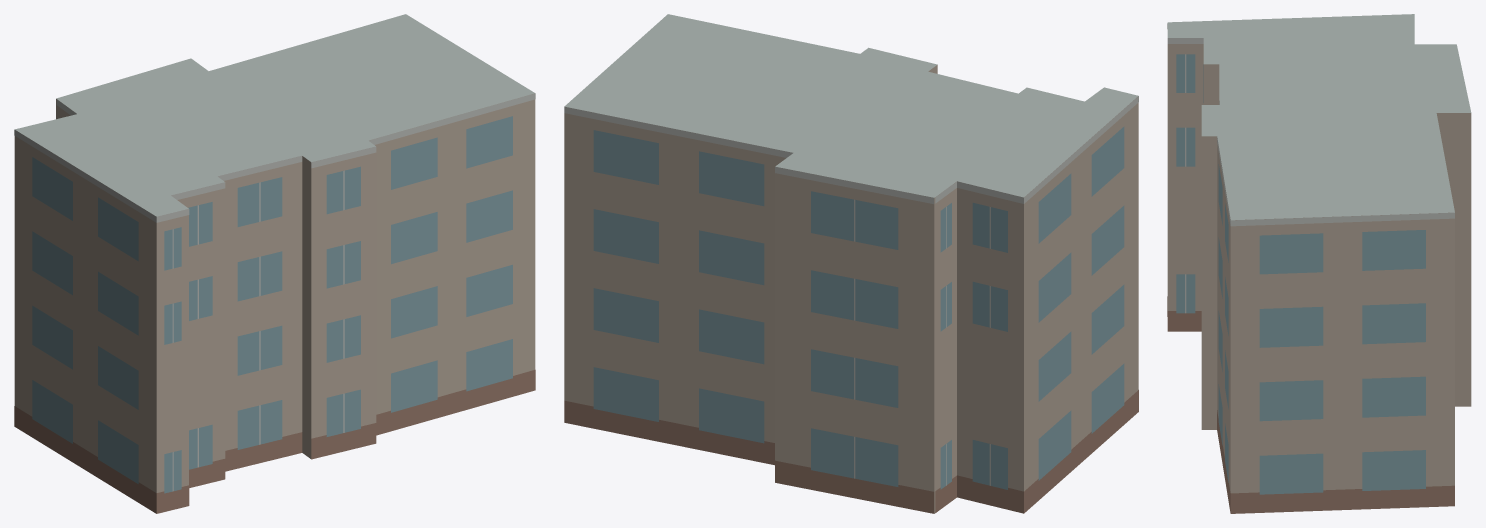
File: survey-upis-32756419.glb
3 renders of one model, left to right at view 1: azimuth 30°, elevation 25°; view 2: azimuth 150°, elevation 25°; view 3: azimuth 270°, elevation 25°, orthographic. The views are drawn at different scales.
Parts seen in each view (by area): view 1: survey-upis-32756419.tmp; view 2: survey-upis-32756419.tmp; view 3: survey-upis-32756419.tmp.
Part boxes in pixels (<box>): survey-upis-32756419.tmp: <box>14,14,535,513</box>; survey-upis-32756419.tmp: <box>564,14,1138,513</box>; survey-upis-32756419.tmp: <box>1167,14,1471,513</box>.
Size of the model in its own units: 17.79 by 11.8 by 11.08.
